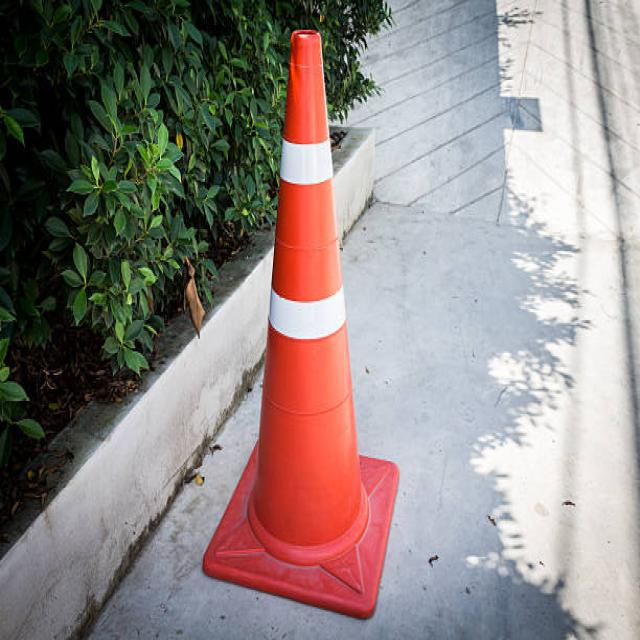Traffic Cone: (185, 8, 437, 640)
